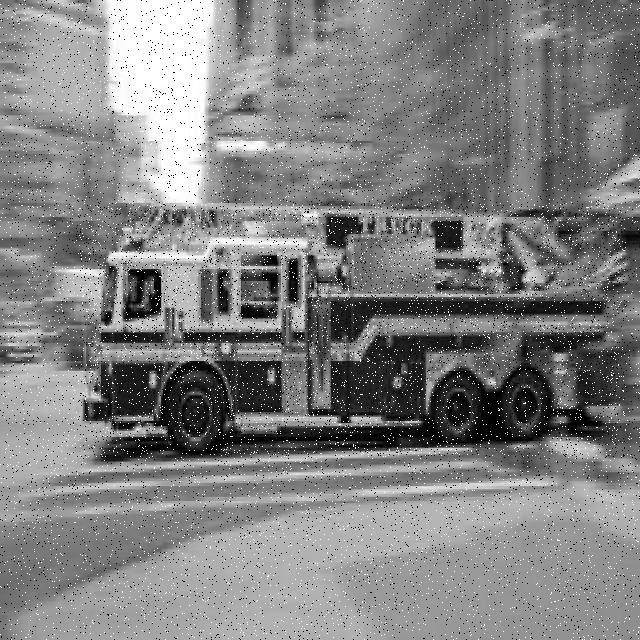Fire Truck: (79, 203, 626, 457)
